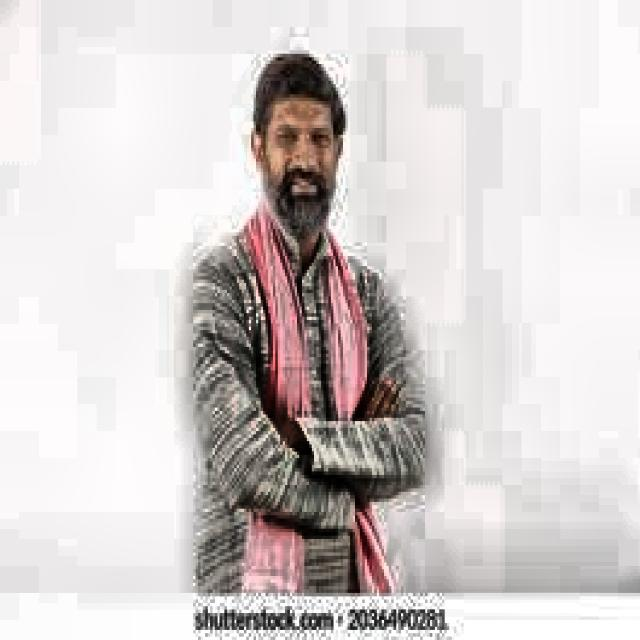Human: (179, 29, 441, 606)
